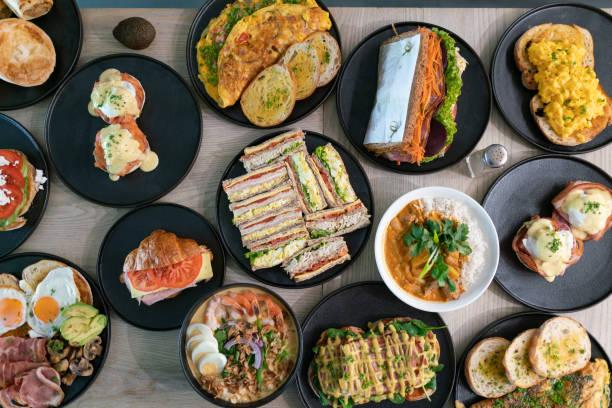Braised Crucian Carp: (333, 20, 491, 176), (215, 129, 369, 288), (44, 55, 198, 207), (481, 154, 610, 311), (185, 1, 338, 131), (297, 281, 454, 406), (489, 3, 611, 155), (1, 250, 112, 404), (95, 203, 222, 332), (374, 186, 497, 313), (453, 313, 612, 408), (179, 282, 300, 406), (1, 0, 84, 111)
